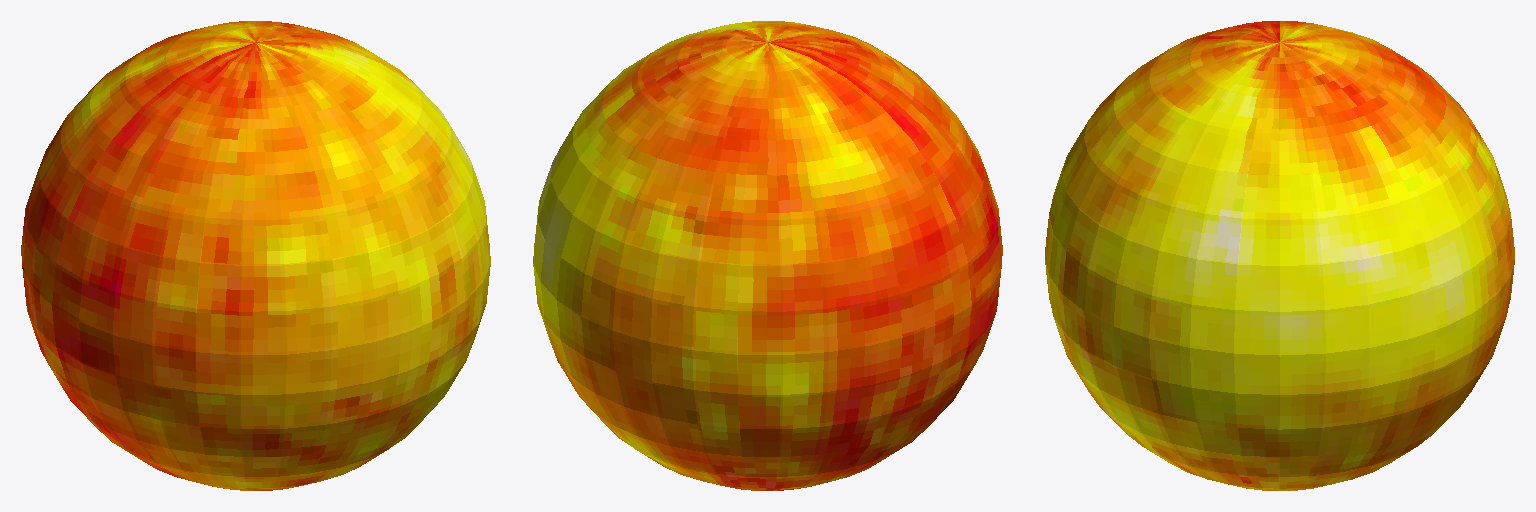
3 views of the same model, side by side, from view 1: azimuth 30°, elevation 25°; view 2: azimuth 150°, elevation 25°; view 3: azimuth 270°, elevation 25° (orthographic).
Parts seen in each view (by area): view 1: Sphere.001; view 2: Sphere.001; view 3: Sphere.001.
Part boxes in pixels (x1,y1,x2,y2): Sphere.001: (21,21,490,490); Sphere.001: (533,21,1002,490); Sphere.001: (1045,21,1514,490).
Bounding box in the file's own units: 2 × 2 × 2.
Materials: 1 (1 with a texture image).